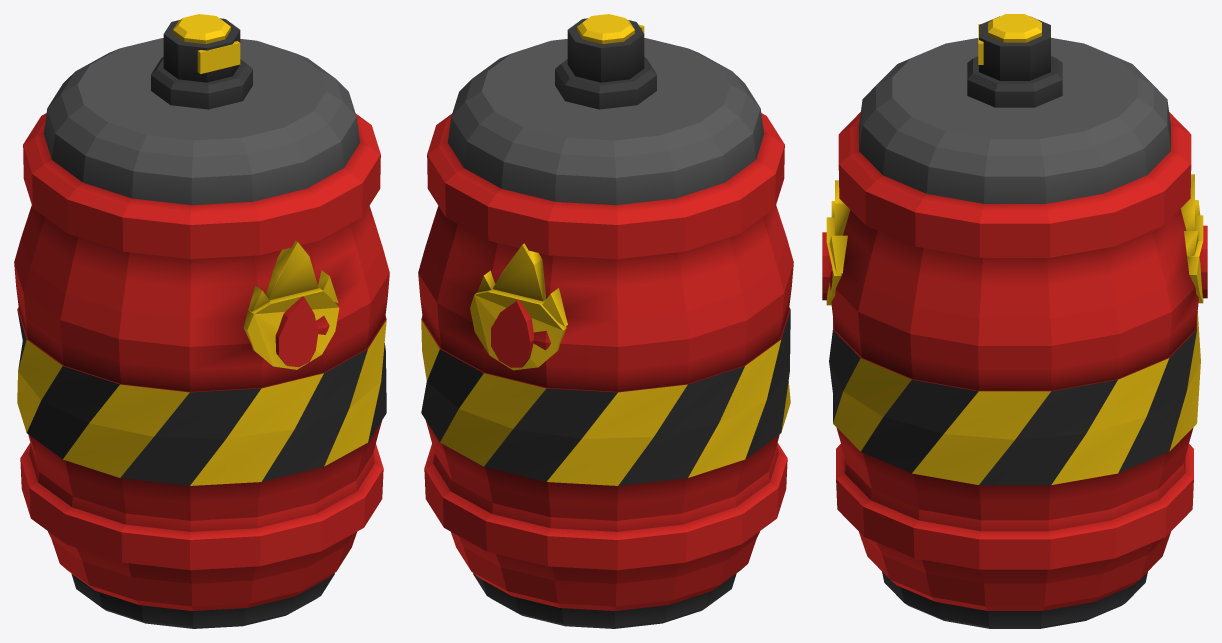
The model's file is barrel.glb.
3 views of the same model, side by side, from view 1: azimuth 30°, elevation 25°; view 2: azimuth 150°, elevation 25°; view 3: azimuth 270°, elevation 25° (orthographic).
Visible parts, largest first — view 1: barrel; view 2: barrel; view 3: barrel.
Boxes of the visible parts, box(x1,y1,x2,y2) form: barrel: box(14, 14, 389, 628); barrel: box(418, 14, 793, 628); barrel: box(822, 14, 1207, 628).
Size of the model in its own units: 0.5465 by 0.896 by 0.5657.
Materials: 1 (1 with a texture image).
